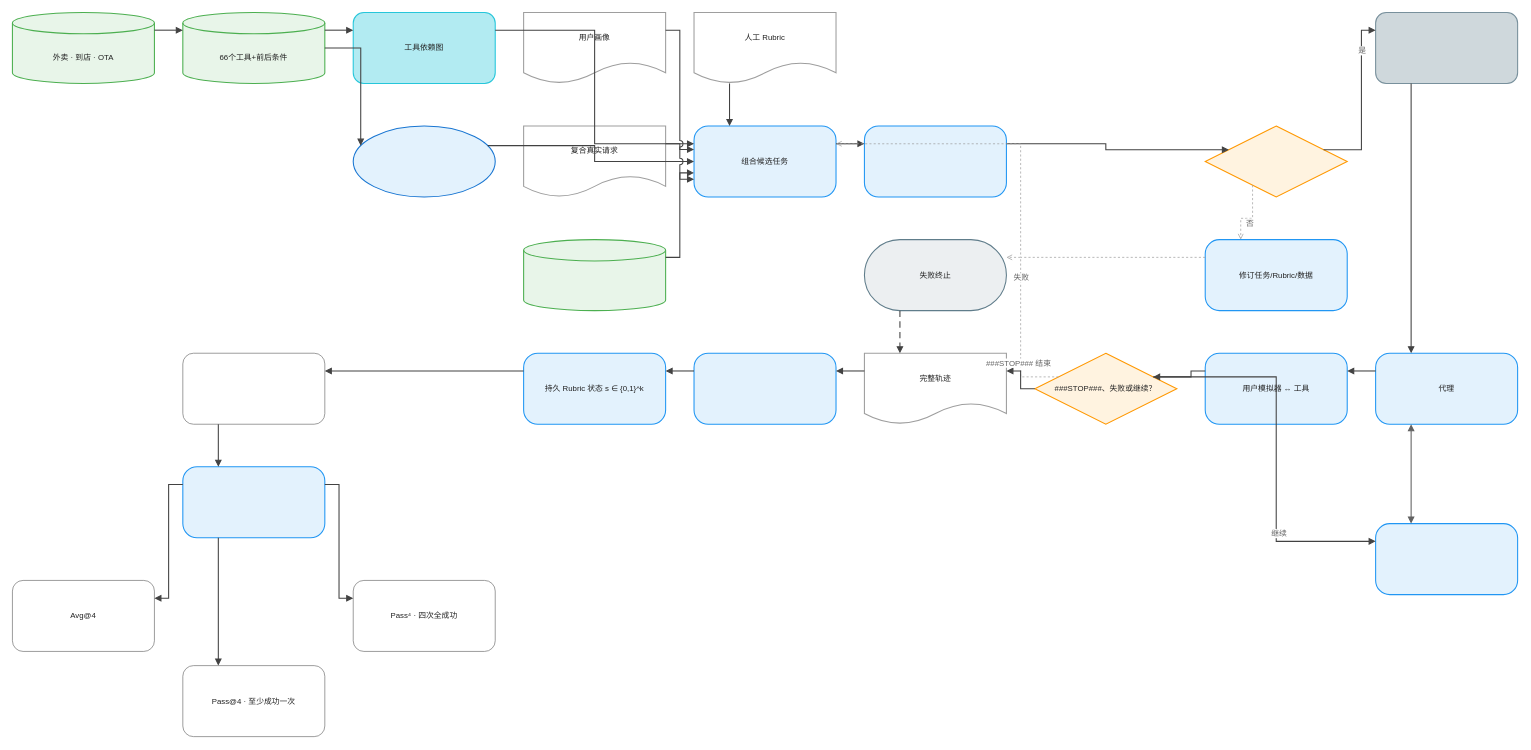
This 1531x750 diagram has some shape labels left out. Each missing label, with the centre of its shape:
"400任务 · 100跨域+300单域" goes at (x=1446, y=48).
"4次独立运行" goes at (x=253, y=502).
"Strict = 1[Σ sⱼ = k]" goes at (x=253, y=388).
"下一轮交互" goes at (x=1446, y=559).
"人工验收通过？" goes at (x=1275, y=161).
"多轮试跑" goes at (x=935, y=161).
"渐进披露用户需求" goes at (x=423, y=161).
"真实+合成环境数据" goes at (x=594, y=275).
"重叠窗口" goes at (x=764, y=388).
